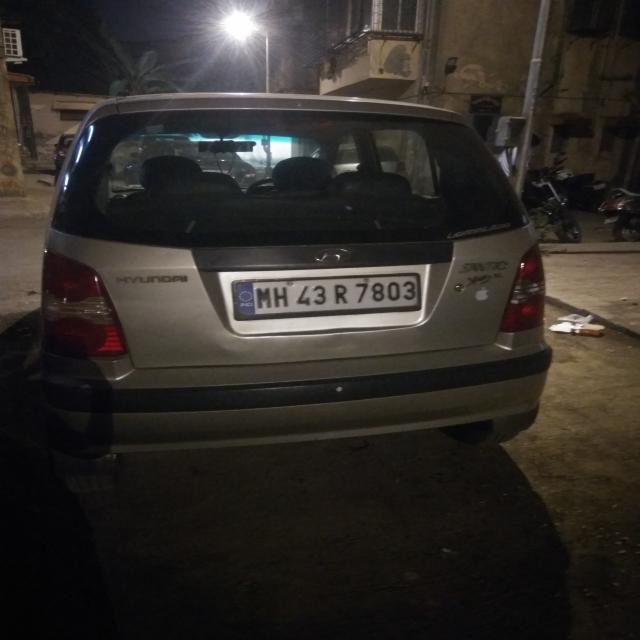Number-Plate: (239, 273, 423, 318)
